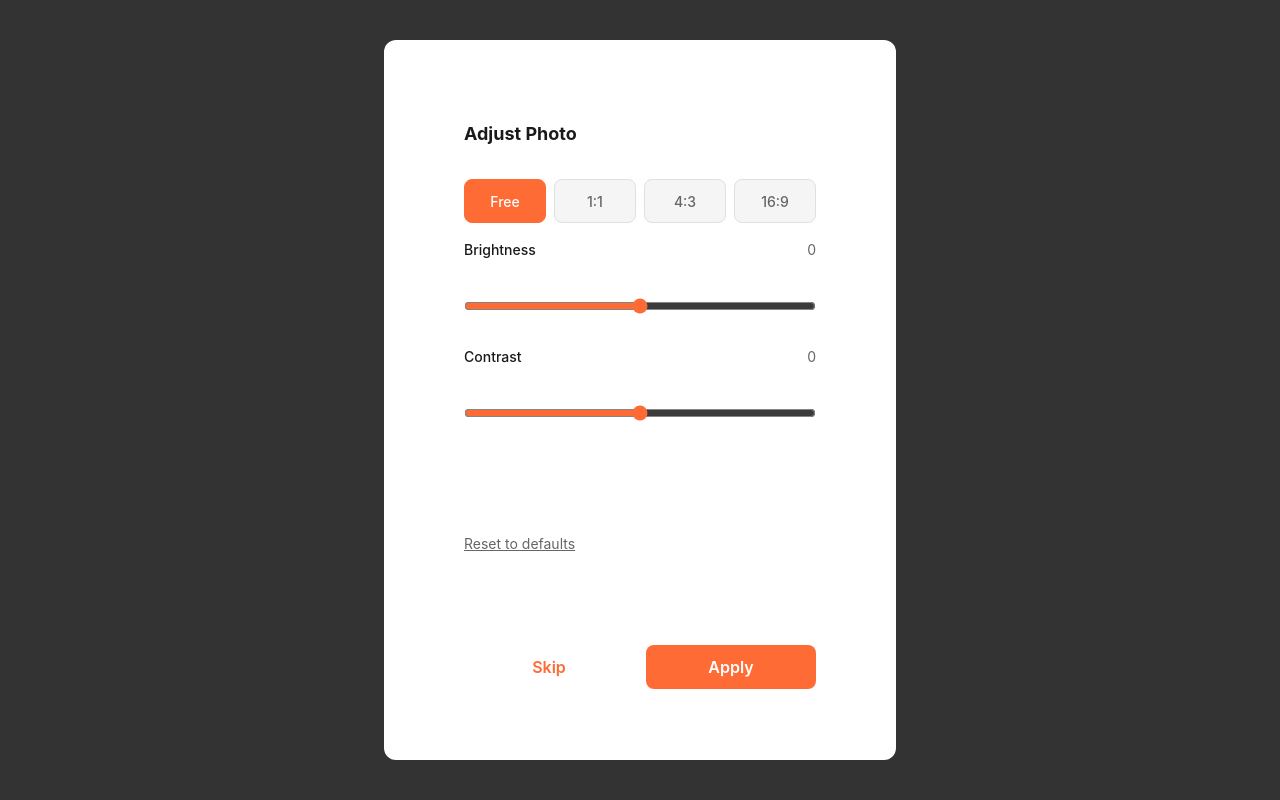
CropAdjustModal › resets adjustments on Reset click
Set the slider below "Brightness" to "30" at (741, 306), box 464,284 -> 816,328
(page scrolled)
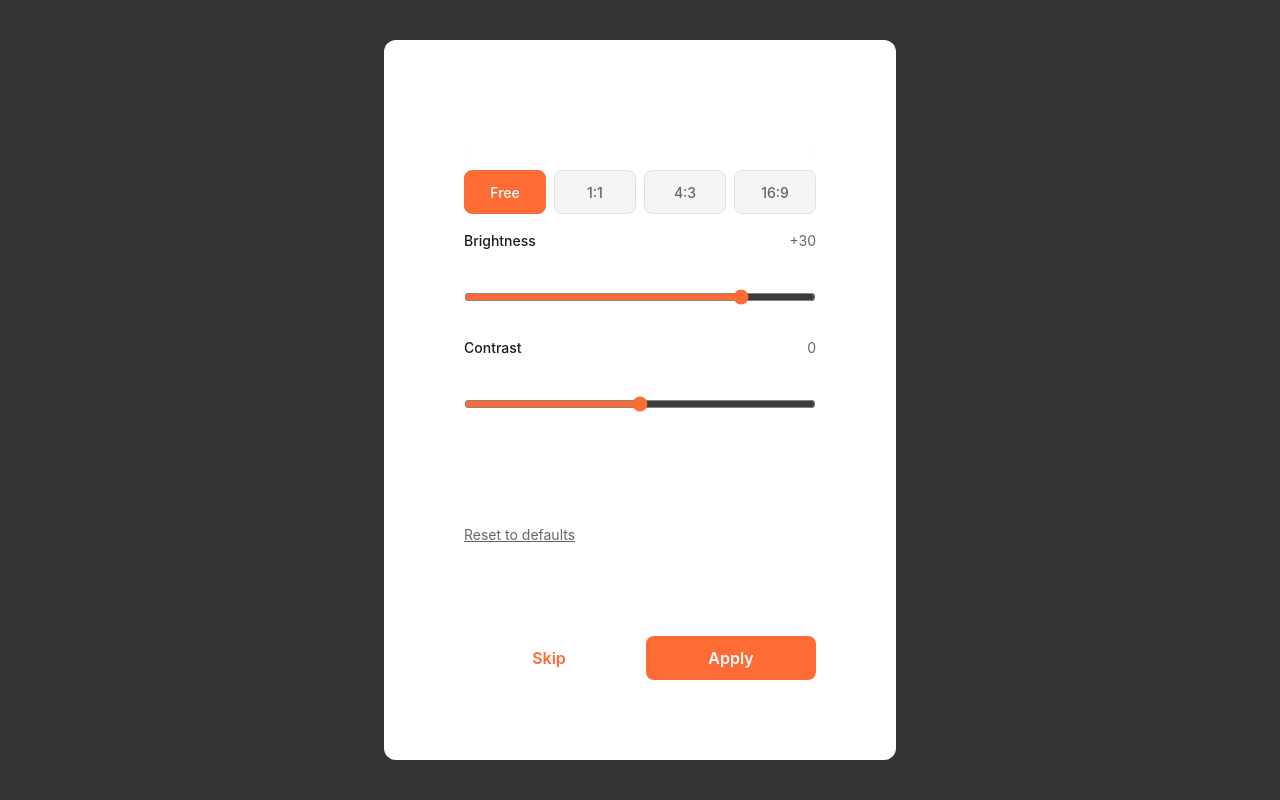
Click the button with test id "reset-btn" at (520, 534), box 464,512 -> 575,556
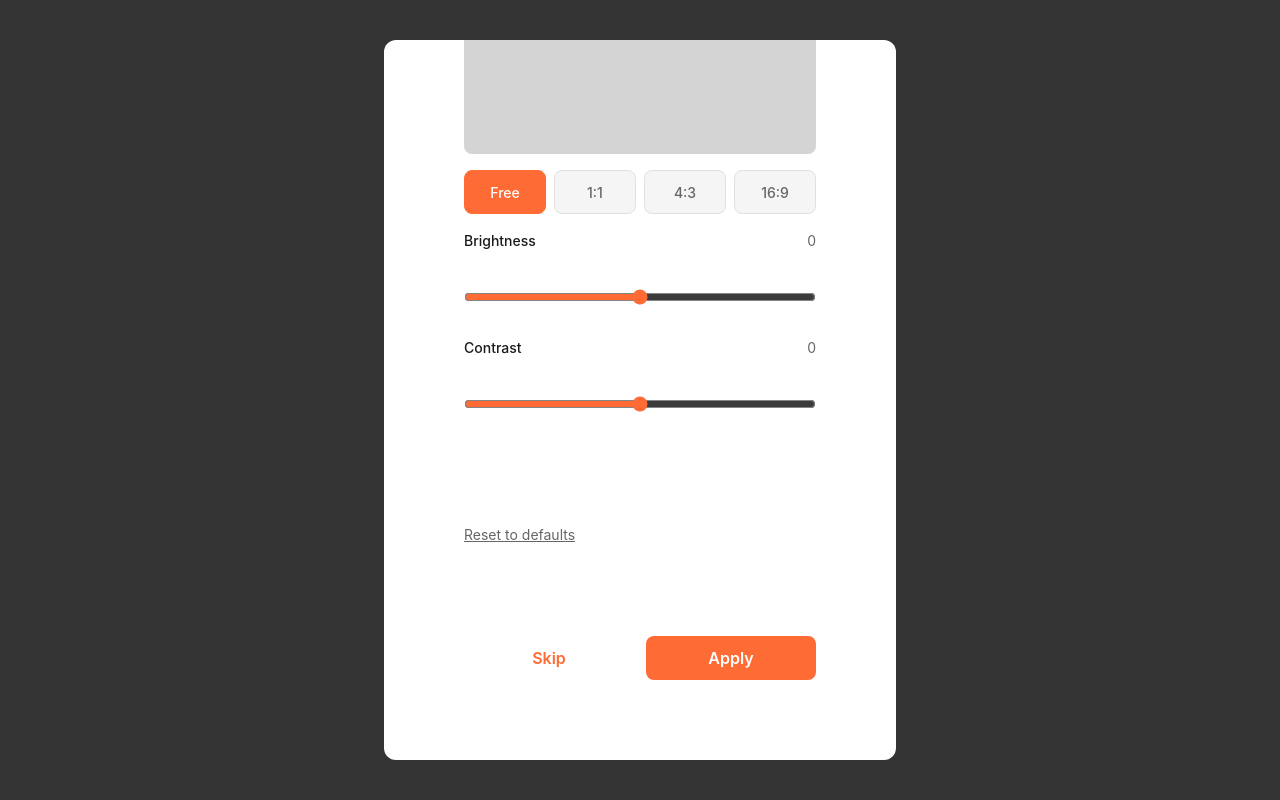
Now the slider below "Brightness" holds "0", box 464,275 -> 816,319
